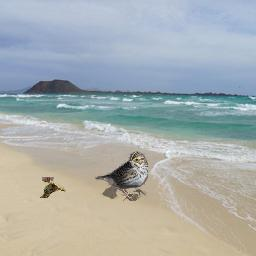Sparrow: (96, 151, 149, 201), (40, 178, 67, 199)
